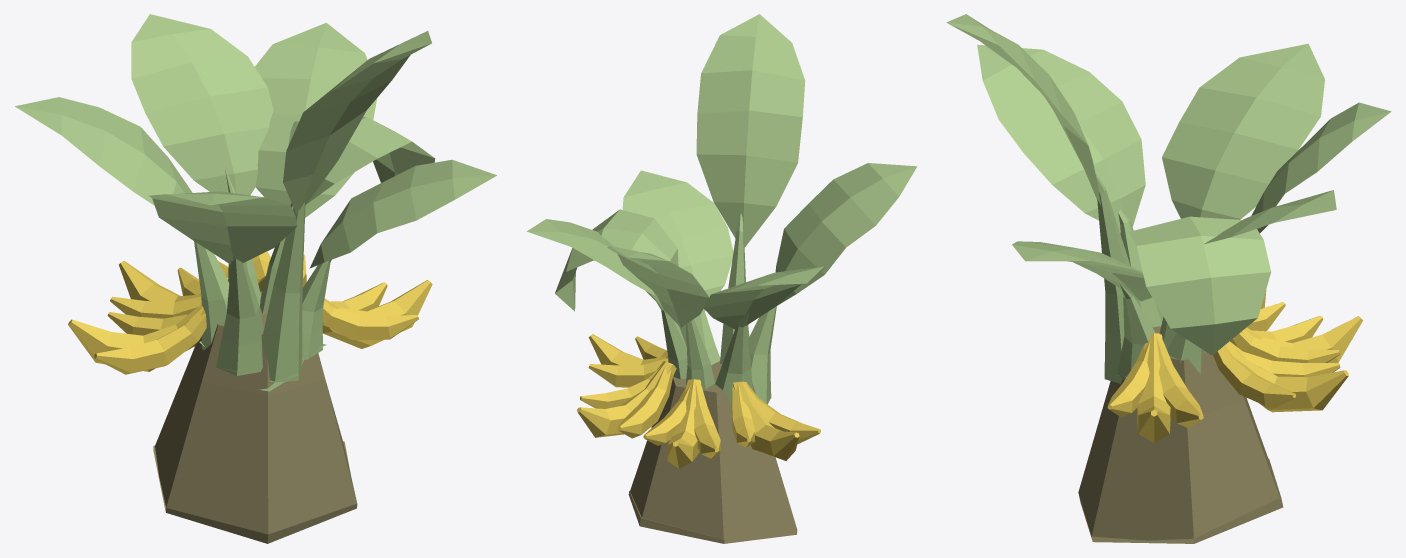
The model's file is Bananier_3_avec_bananes_V001.fbx.
3 views of the same model, side by side, from view 1: azimuth 30°, elevation 25°; view 2: azimuth 150°, elevation 25°; view 3: azimuth 270°, elevation 25° (orthographic). The views are drawn at different scales.
Parts seen in each view (by area): view 1: Sweep_3, Cube_1_4, Cube_1_5, Cube_1_7, Cube_1_3, Cube_1_6, Cube_1_2, Feuille_7, Cube_1, Feuille_2, banane_1, Feuille_3 (+9 smaller); view 2: Cube_1_7, Sweep_3, Cube_1_2, Cube_1_6, Cube_1, Cube_1_4, Cube_1_3, Cube_1_5, Feuille_2, banane_1_1_3, banane_1_1, Feuille_3 (+13 smaller); view 3: Sweep_3, Cube_1_3, Cube_1_2, Cube_1, Cube_1_4, Cube_1_7, Feuille_7, Cube_1_6, banane_1_1_3, banane_1_1_4, banane_1_2_4, Cube_1_5 (+10 smaller).
Boxes of the visible parts, <box> form: Sweep_3: <box>153,324,357,543</box>; Cube_1_4: <box>131,14,273,195</box>; Cube_1_5: <box>255,22,376,217</box>; Cube_1_7: <box>283,31,431,214</box>; Cube_1_3: <box>15,97,192,205</box>; Cube_1_6: <box>309,159,496,268</box>; Cube_1_2: <box>149,191,297,264</box>; Feuille_7: <box>261,202,305,382</box>; Cube_1: <box>288,116,435,203</box>; Feuille_2: <box>216,258,263,375</box>; banane_1: <box>95,306,206,374</box>; Feuille_3: <box>194,241,229,350</box>; Cube_1_7: <box>696,14,805,247</box>; Sweep_3: <box>628,378,797,543</box>; Cube_1_2: <box>775,163,917,305</box>; Cube_1_6: <box>622,170,733,316</box>; Cube_1: <box>555,209,678,311</box>; Cube_1_4: <box>607,245,709,327</box>; Cube_1_3: <box>703,266,825,329</box>; Cube_1_5: <box>527,219,667,315</box>; Feuille_2: <box>748,306,776,404</box>; banane_1_1_3: <box>578,361,676,437</box>; banane_1_1: <box>733,381,799,460</box>; Feuille_3: <box>715,311,752,404</box>; Sweep_3: <box>1078,352,1283,543</box>; Cube_1_3: <box>1162,43,1324,219</box>; Cube_1_2: <box>977,44,1145,231</box>; Cube_1: <box>1129,216,1271,355</box>; Cube_1_4: <box>1251,102,1391,229</box>; Cube_1_7: <box>946,14,1100,205</box>; Feuille_7: <box>1095,173,1141,383</box>; Cube_1_6: <box>1012,241,1151,301</box>; banane_1_1_3: <box>1221,342,1348,412</box>; banane_1_1_4: <box>1137,333,1170,443</box>; banane_1_2_4: <box>1213,345,1294,408</box>; Cube_1_5: <box>1204,190,1336,244</box>.
Bounding box in the file's own units: 192 × 276 × 211.
